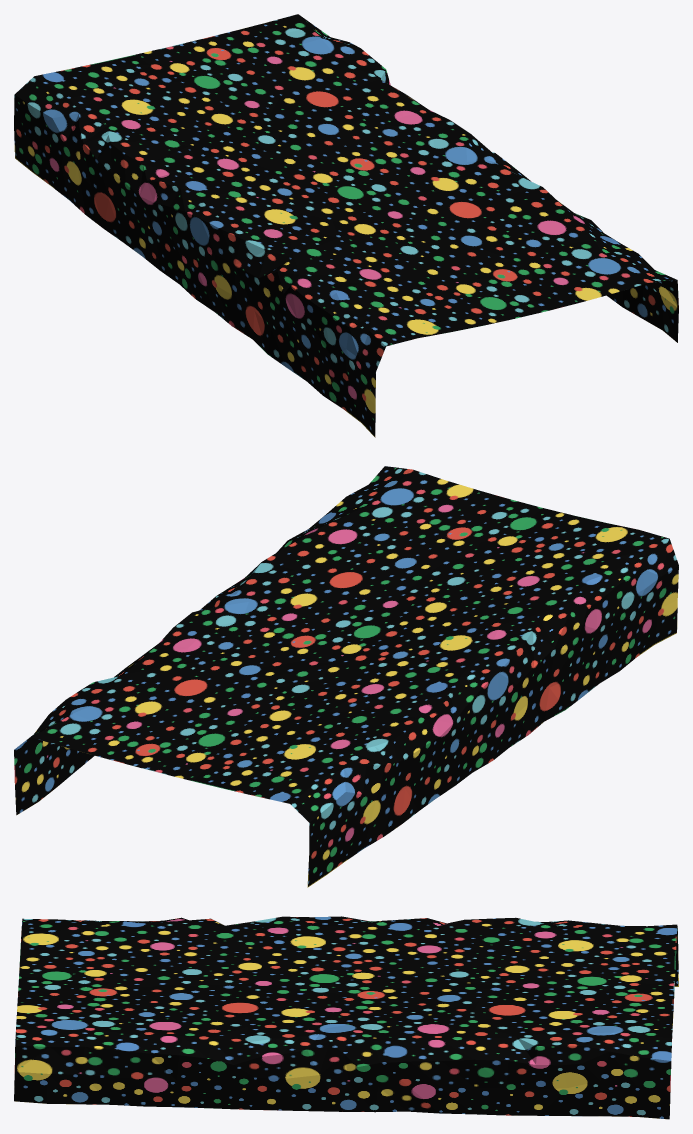
Rendered from SM_TableCloth.fbx.
3 views of the same model, one above another, from view 1: azimuth 30°, elevation 25°; view 2: azimuth 150°, elevation 25°; view 3: azimuth 270°, elevation 25° (orthographic). The views are drawn at different scales.
Parts seen in each view (by area): view 1: SM_TableCloth; view 2: SM_TableCloth; view 3: SM_TableCloth.
Boxes of the visible parts, bbox=[...] form: SM_TableCloth: bbox=[14, 14, 678, 437]; SM_TableCloth: bbox=[14, 466, 678, 887]; SM_TableCloth: bbox=[14, 916, 678, 1119].
Size of the model in its own units: 93.42 by 27.55 by 198.
